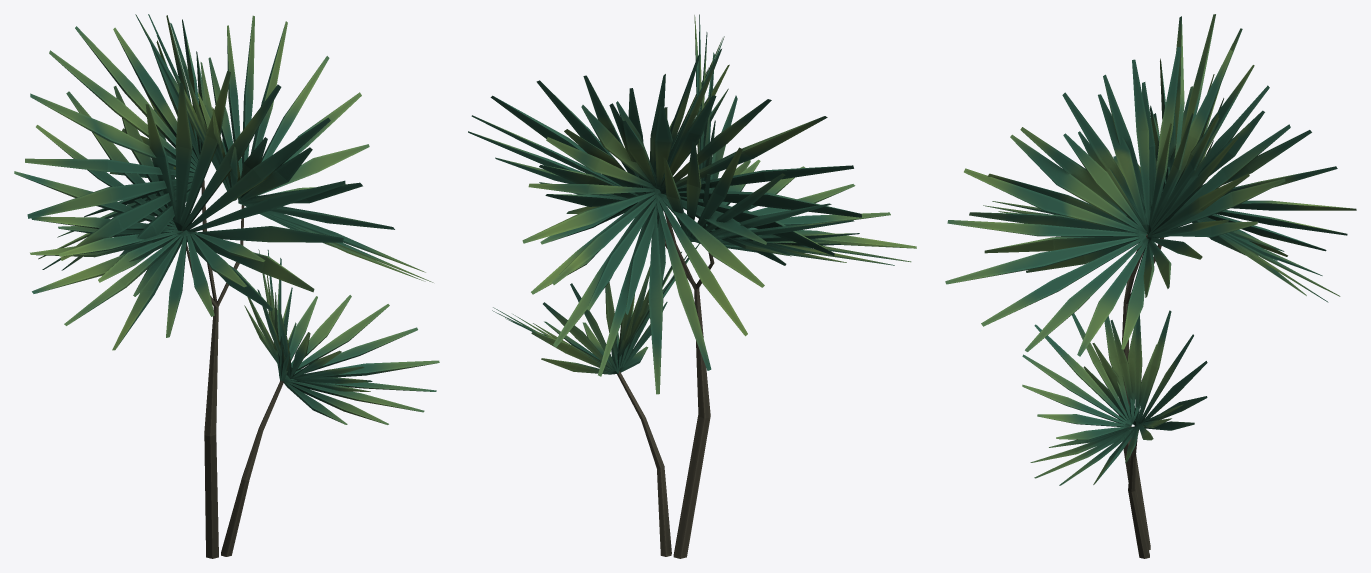
Rendered from palmtree1.obj.
The picture shows the model from 3 angles, left to right: view 1: azimuth 30°, elevation 25°; view 2: azimuth 150°, elevation 25°; view 3: azimuth 270°, elevation 25°; orthographic projection. The views are drawn at different scales.
Parts seen in each view (by area): view 1: polySurface16; view 2: polySurface16; view 3: polySurface16.
Boxes of the visible parts, box(x1,y1,x2,y2) form: polySurface16: box(14, 14, 439, 558); polySurface16: box(468, 14, 916, 558); polySurface16: box(945, 14, 1356, 558).
Size of the model in its own units: 13.02 by 16.28 by 12.49.
